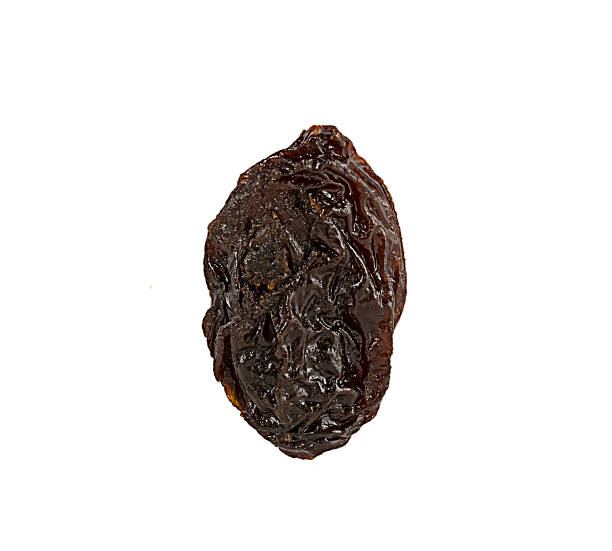raisin: (204, 125, 407, 460)
